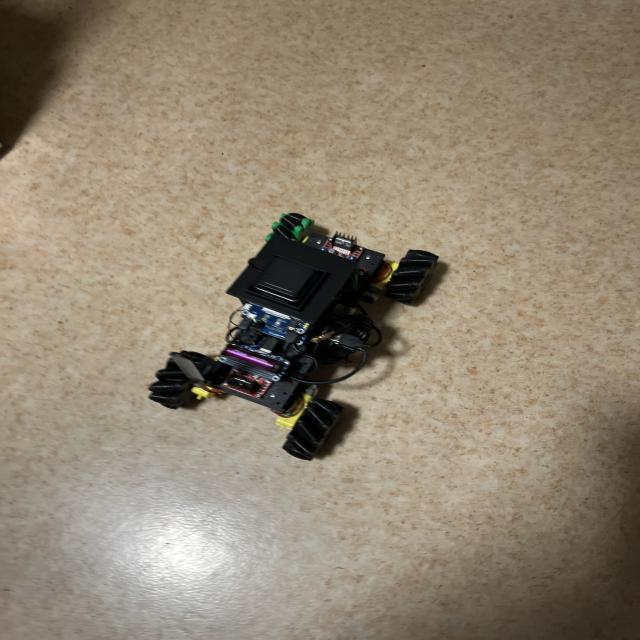robot: (149, 213, 438, 460)
